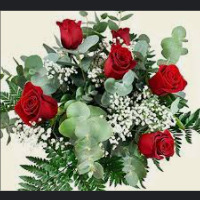RedRose: (14, 81, 60, 126), (135, 124, 176, 169), (54, 13, 87, 47), (151, 61, 181, 96), (105, 44, 134, 79), (110, 24, 135, 46)
